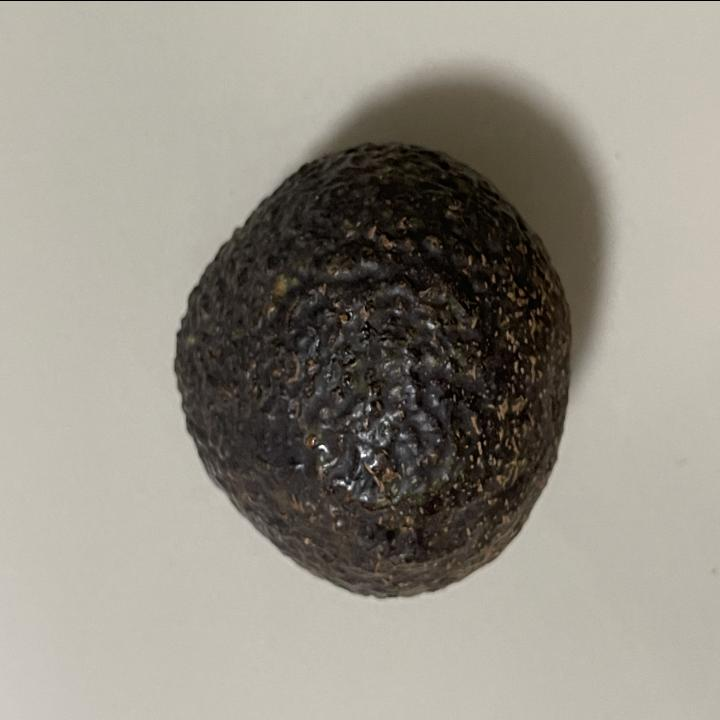Level1: (155, 112, 579, 618)
